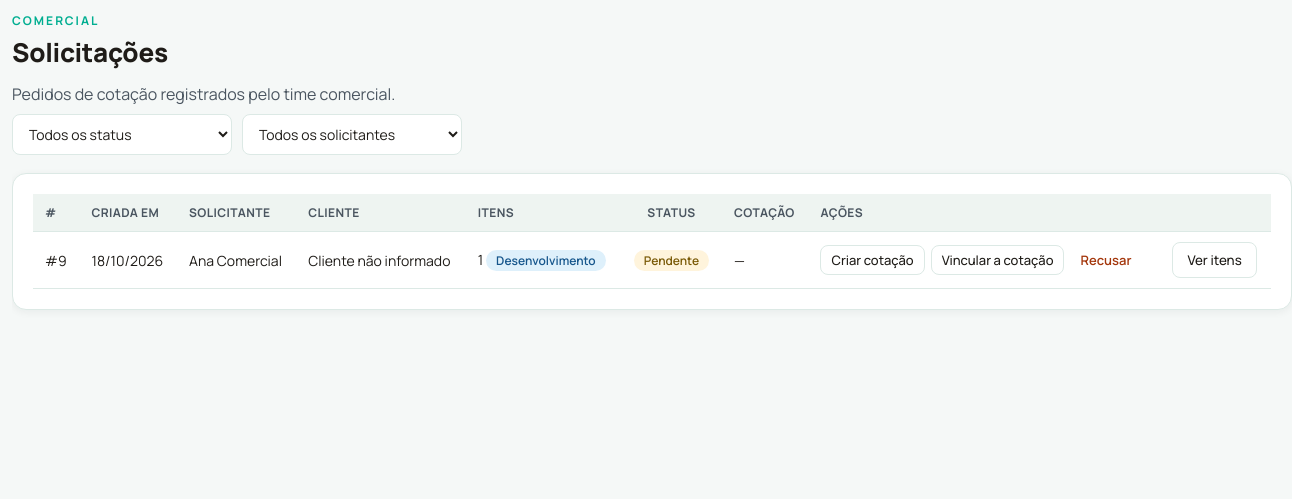
ComexView - solicitacao de desenvolvimento › item ja vinculado mostra "Trocar vínculo"
Click the button "Ver itens" at (1215, 260), box x1=1172 y1=242 x2=1257 y2=278
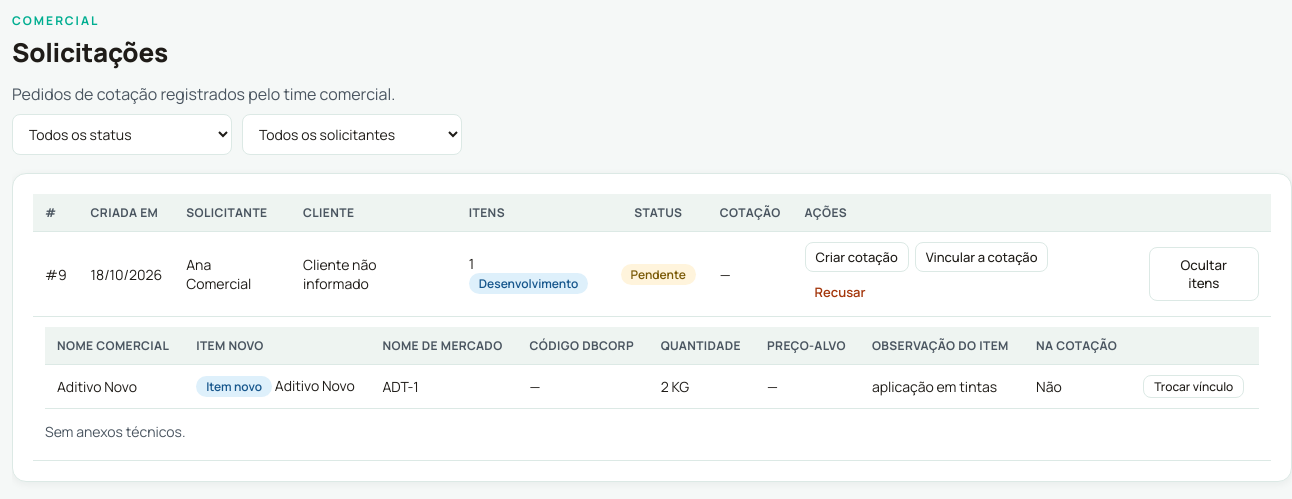
expect the button "Trocar vínculo" is shown: met, box x1=1143 y1=375 x2=1244 y2=398
